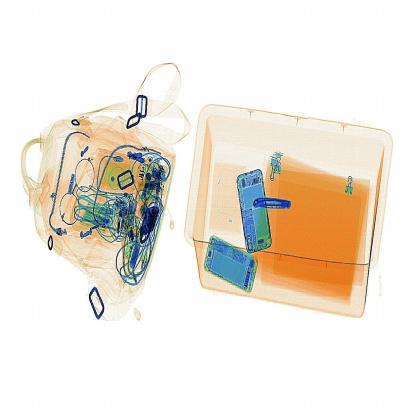knife: (245, 187, 298, 221)
